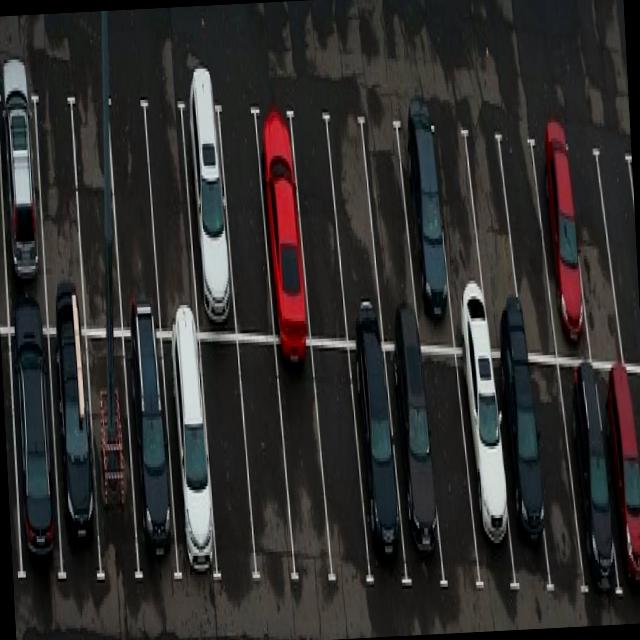car: (163, 323, 216, 588), (350, 342, 402, 600), (47, 330, 98, 584), (123, 333, 174, 584), (460, 342, 510, 592), (9, 342, 60, 580), (89, 338, 140, 576), (402, 100, 448, 356), (186, 78, 232, 332), (392, 350, 440, 592), (0, 84, 47, 324), (536, 112, 582, 355), (262, 83, 304, 334), (599, 358, 640, 610), (500, 338, 541, 576), (568, 366, 607, 584)
free: (425, 342, 476, 588), (242, 334, 290, 594), (202, 341, 252, 583), (222, 87, 269, 340), (282, 348, 332, 584), (316, 346, 365, 586), (295, 102, 344, 340), (331, 100, 378, 346), (570, 122, 618, 360), (147, 86, 192, 332), (505, 114, 551, 354), (366, 113, 415, 332), (72, 100, 118, 331), (38, 99, 84, 329), (110, 98, 158, 318), (434, 112, 480, 328), (531, 363, 573, 594), (472, 111, 514, 336), (603, 125, 640, 367)
